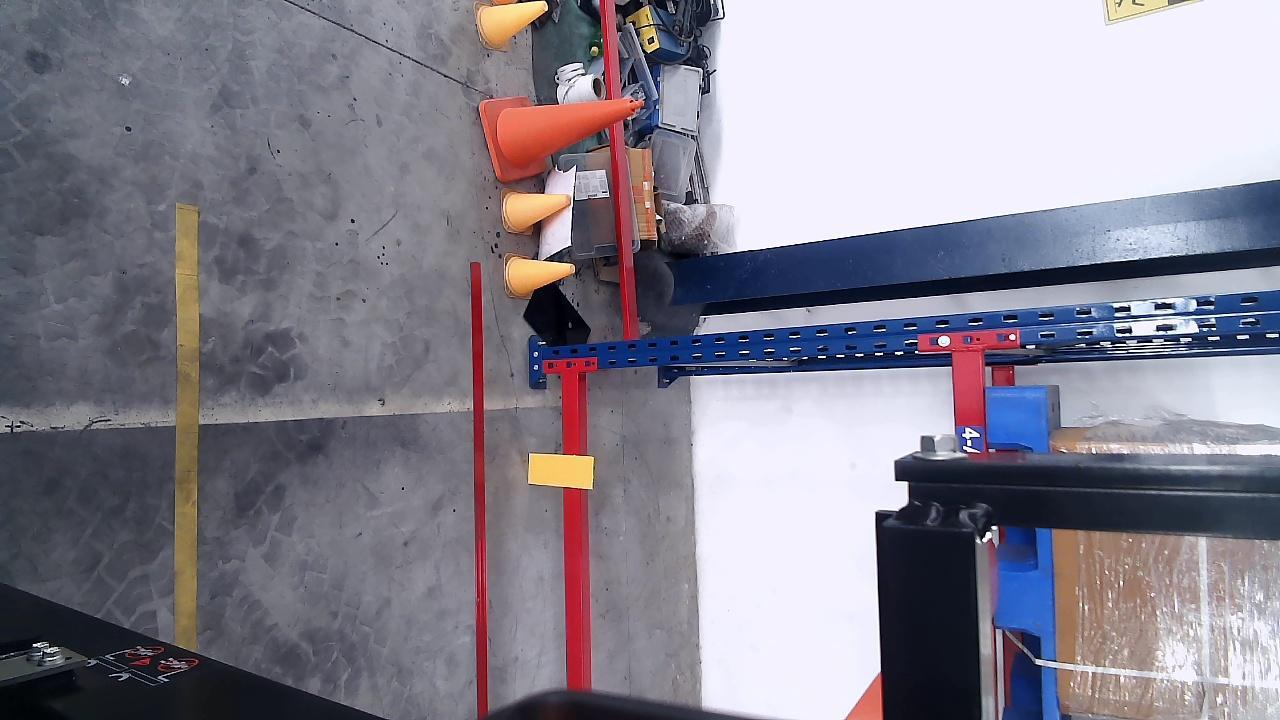h_rack: (560, 372, 590, 690)
orange_strip: (525, 455, 594, 491)
red_line: (468, 262, 491, 718)
small_pallet: (991, 389, 1054, 720)
yellow_line: (175, 205, 199, 651)
